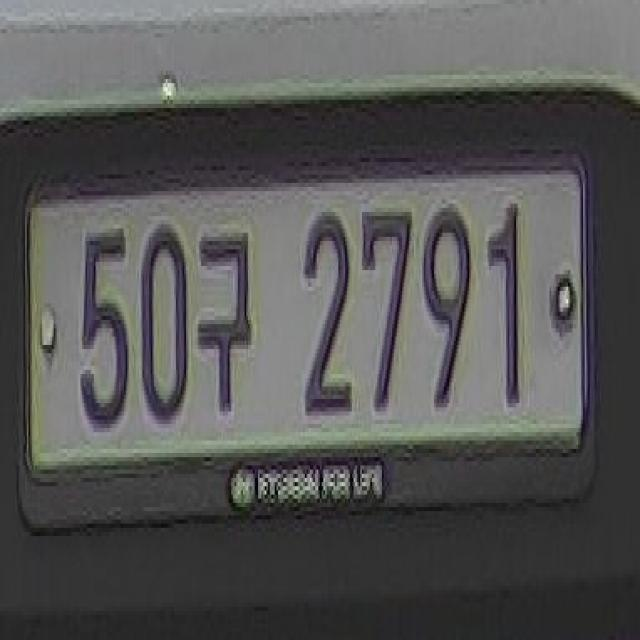0: (142, 217, 192, 433)
1: (484, 188, 524, 422)
2: (298, 201, 358, 426)
5: (80, 218, 130, 428)
7: (360, 196, 420, 422)
9: (423, 194, 475, 421)
gu: (194, 212, 260, 428)
license_plate: (19, 151, 596, 498)
